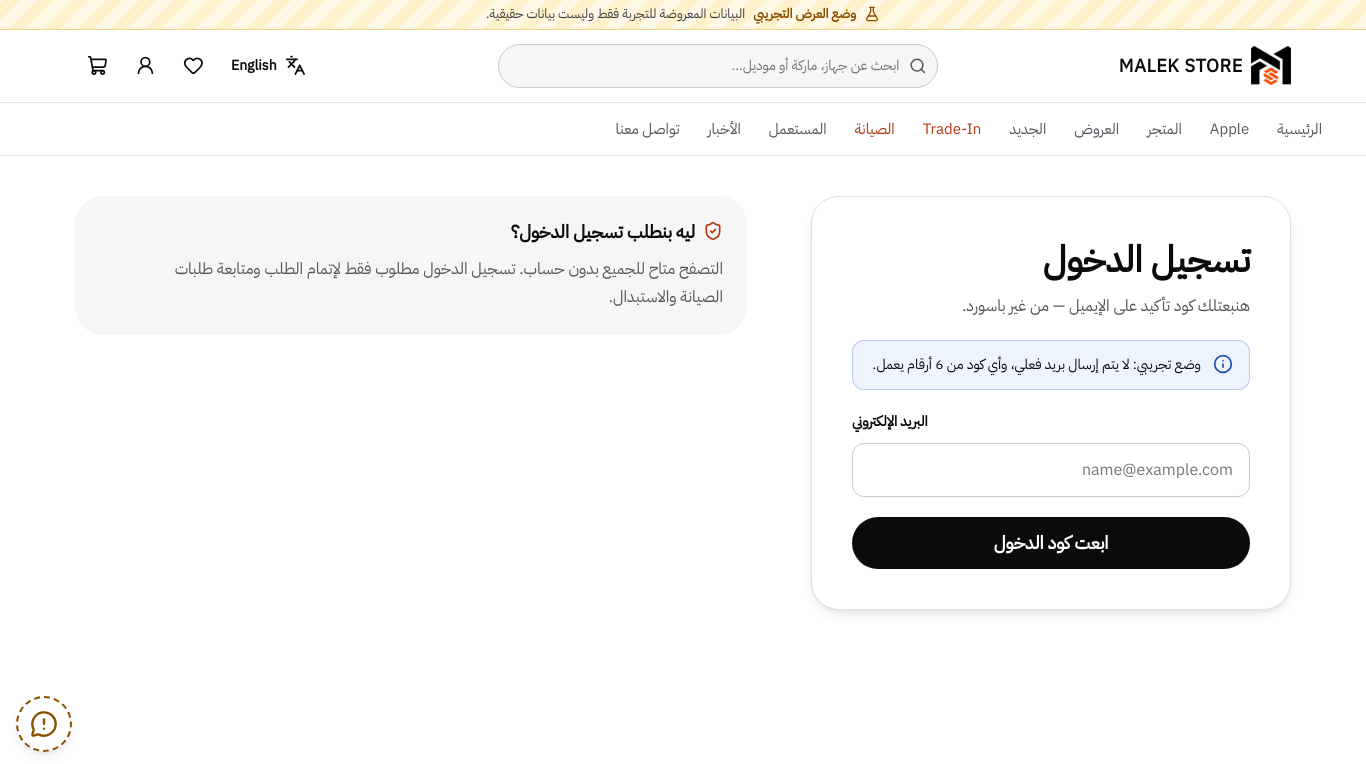
Test case: customer authentication (demo adapter) › redirects account pages to sign-in and returns after verification
Expected: the heading "تسجيل الدخول" is shown, [1043,233,1250,287]
Click the button "ابعت كود الدخول" at {"x": 1051, "y": 543}, box [852,517,1250,569]
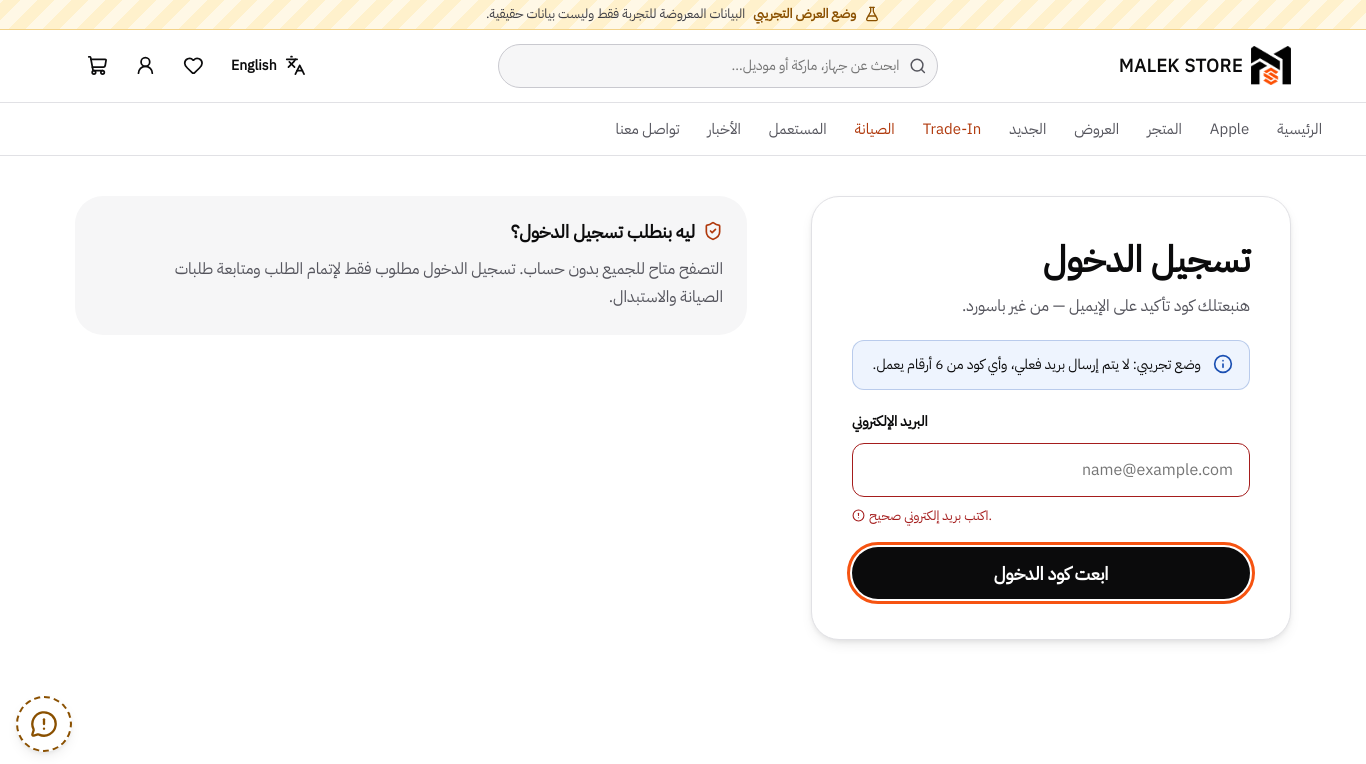
Now the text "اكتب بريد إلكتروني صحيح." is shown, box [852,506,992,525]
Type "Customer@Example.com" into the field labelled "البريد الإلكتروني" at {"x": 1051, "y": 470}, box [852,443,1250,497]
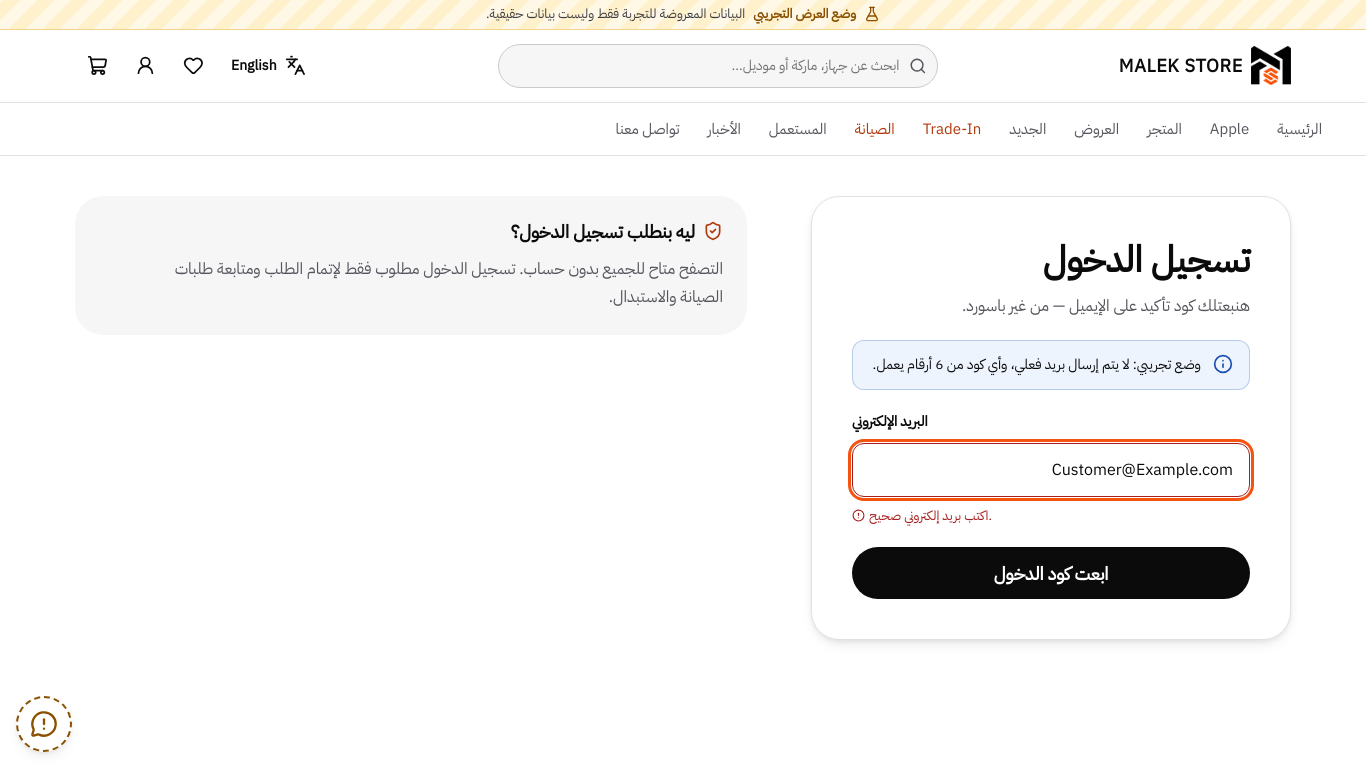
Click the button "ابعت كود الدخول" at {"x": 1051, "y": 573}, box [852,547,1250,599]
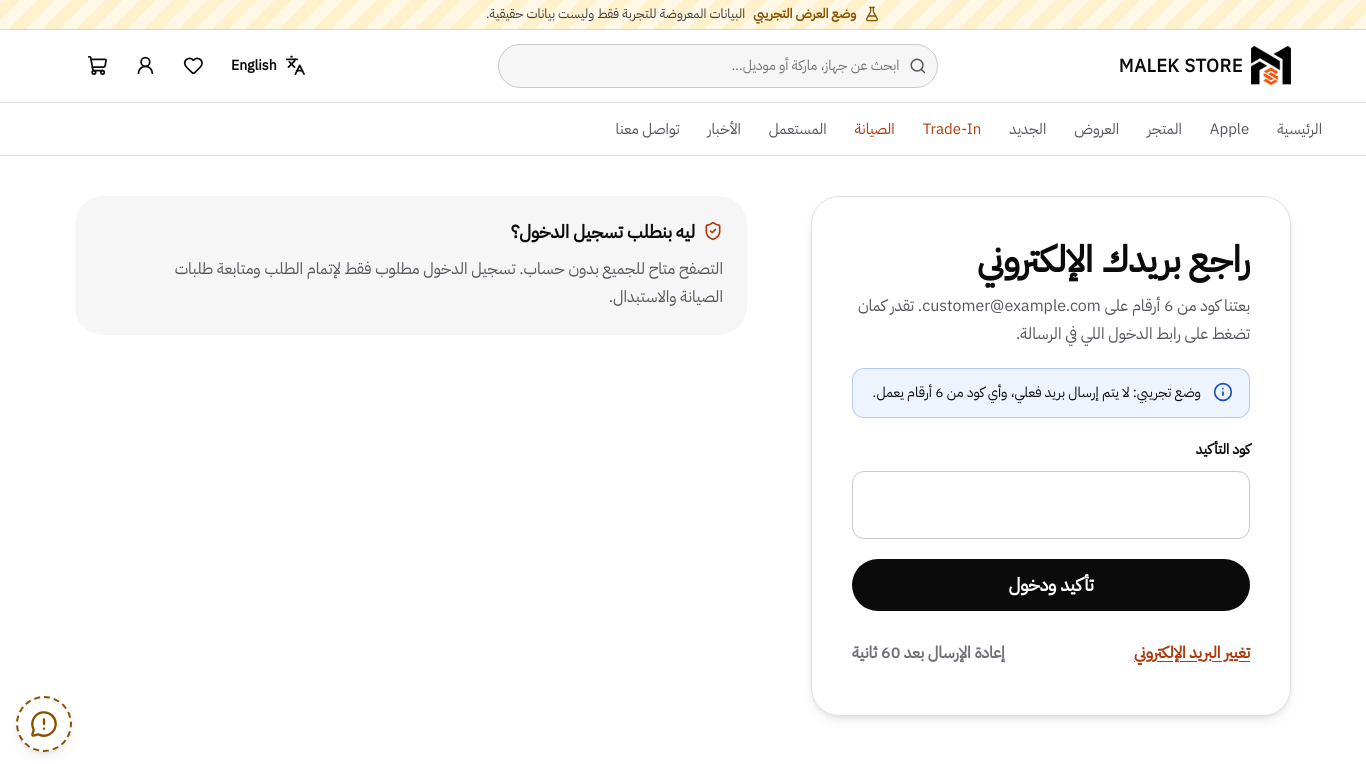
Now the heading "راجع بريدك الإلكتروني" is shown, box [977,233,1250,287]
Now the button "إعادة الإرسال بعد 60 ثانية" is disabled, box [852,631,1005,675]
Type "12" into the field labelled "كود التأكيد" at {"x": 1051, "y": 505}, box [852,471,1250,539]
Click the button "تأكيد ودخول" at {"x": 1051, "y": 585}, box [852,559,1250,611]
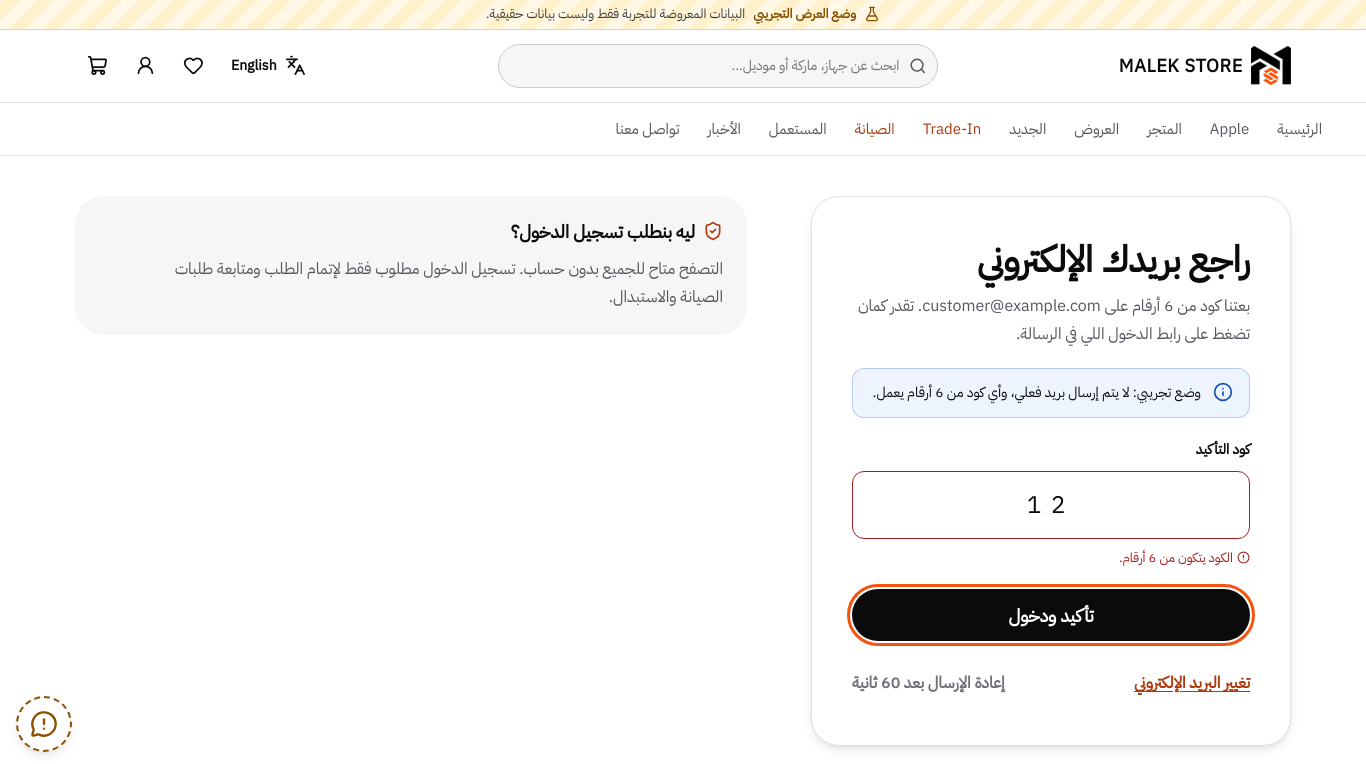
Now the text "الكود يتكون من 6 أرقام." is shown, box [1119,548,1250,567]
Replace the text in the field labelled "كود التأكيد" with "١٢٣٤٥٦" at {"x": 1051, "y": 505}, box [852,471,1250,539]
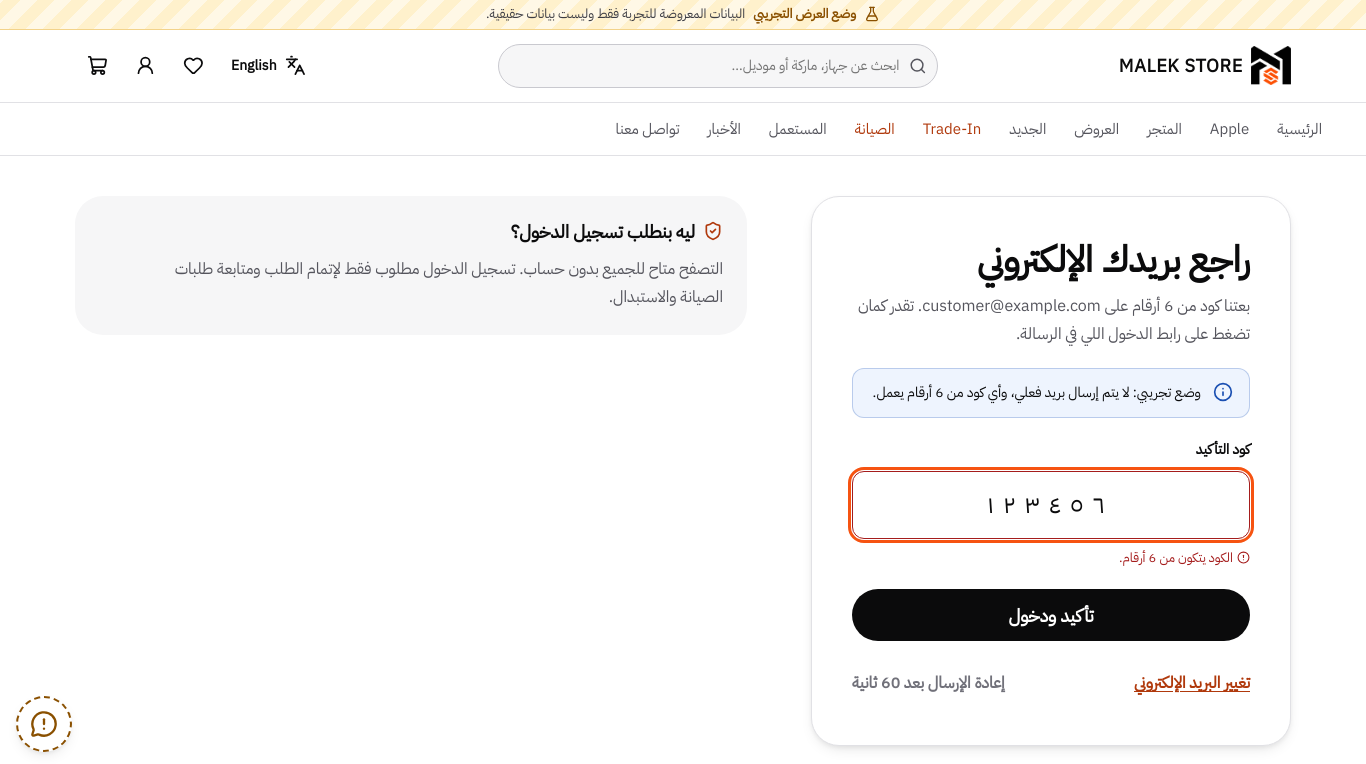
Click the button "تأكيد ودخول" at {"x": 1051, "y": 615}, box [852,589,1250,641]
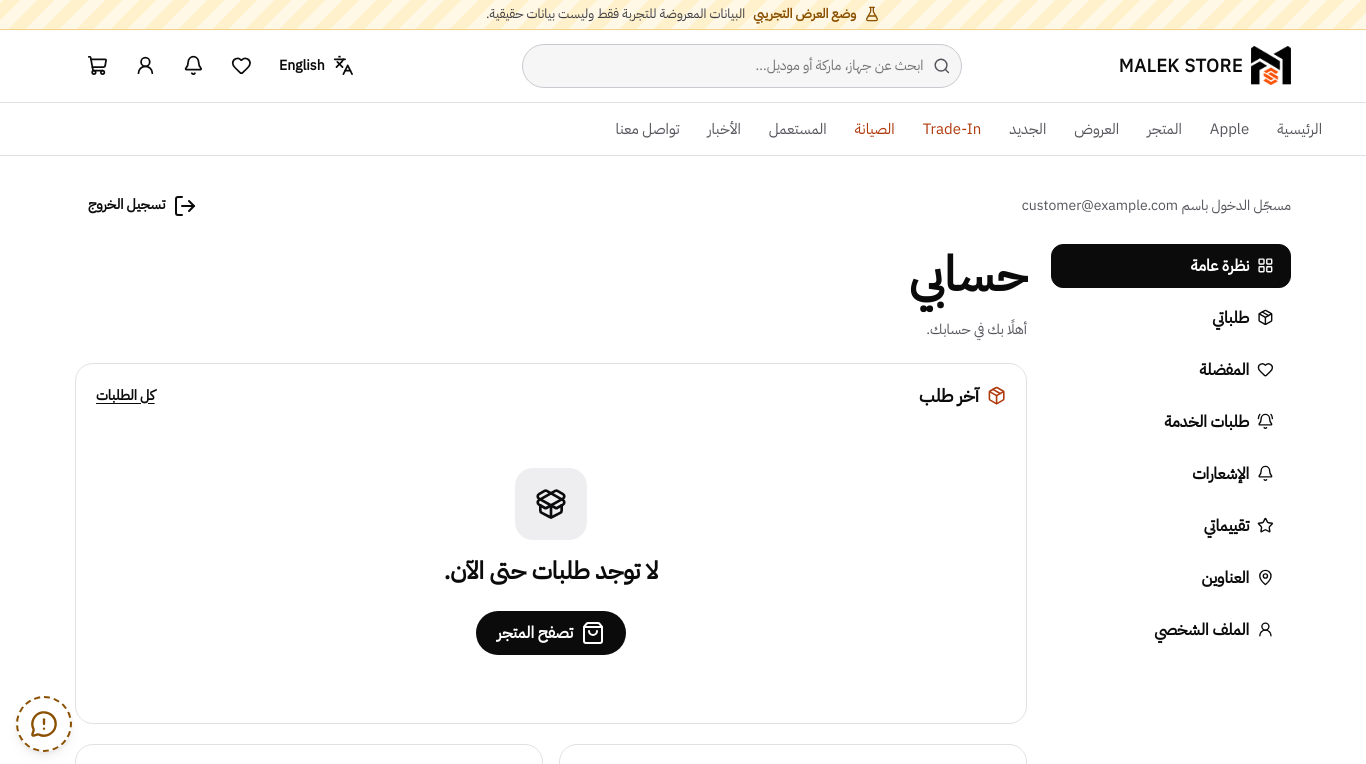
Now the heading "حسابي" is shown, box [909,244,1027,306]
Now the text "مسجّل الدخول باسم customer@example.com" is shown, box [1022,194,1291,216]
Now the heading "لا توجد طلبات حتى الآن." is shown, box [444,556,658,587]
